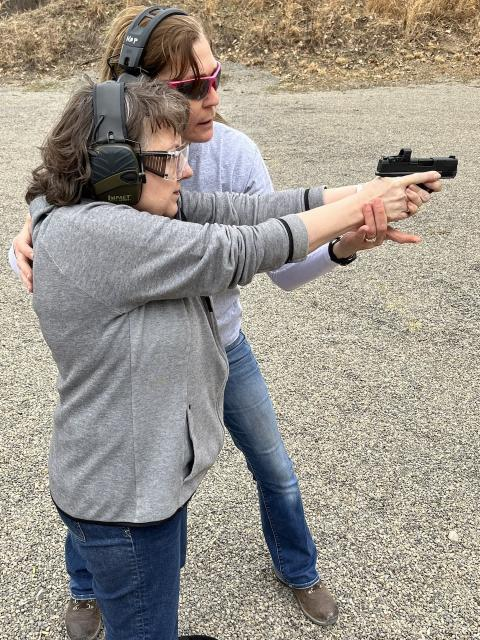handgun: (371, 144, 461, 206)
